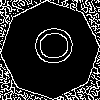O: (25, 25, 74, 67)
